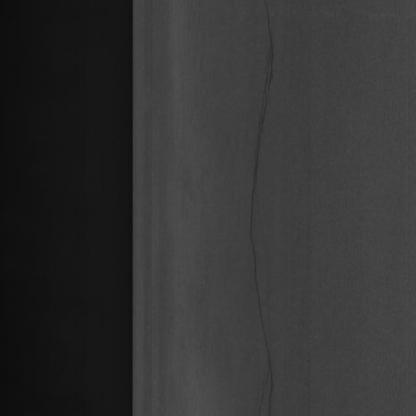water_spot: (240, 11, 298, 395)
